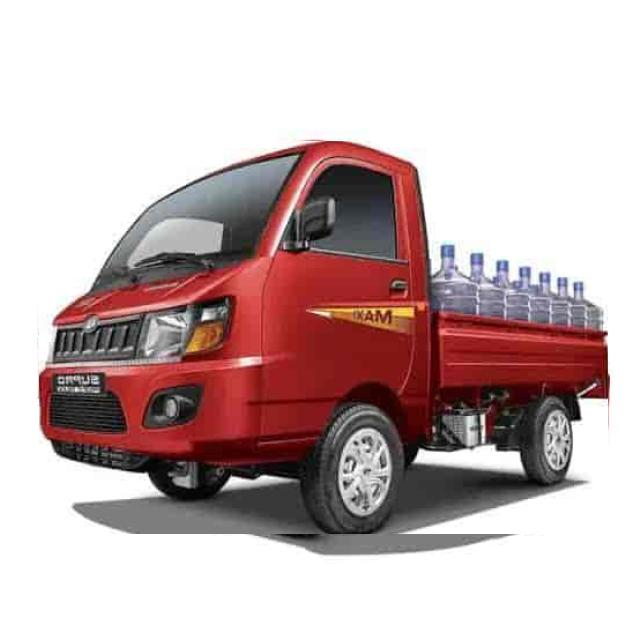truck: (40, 142, 608, 534)
